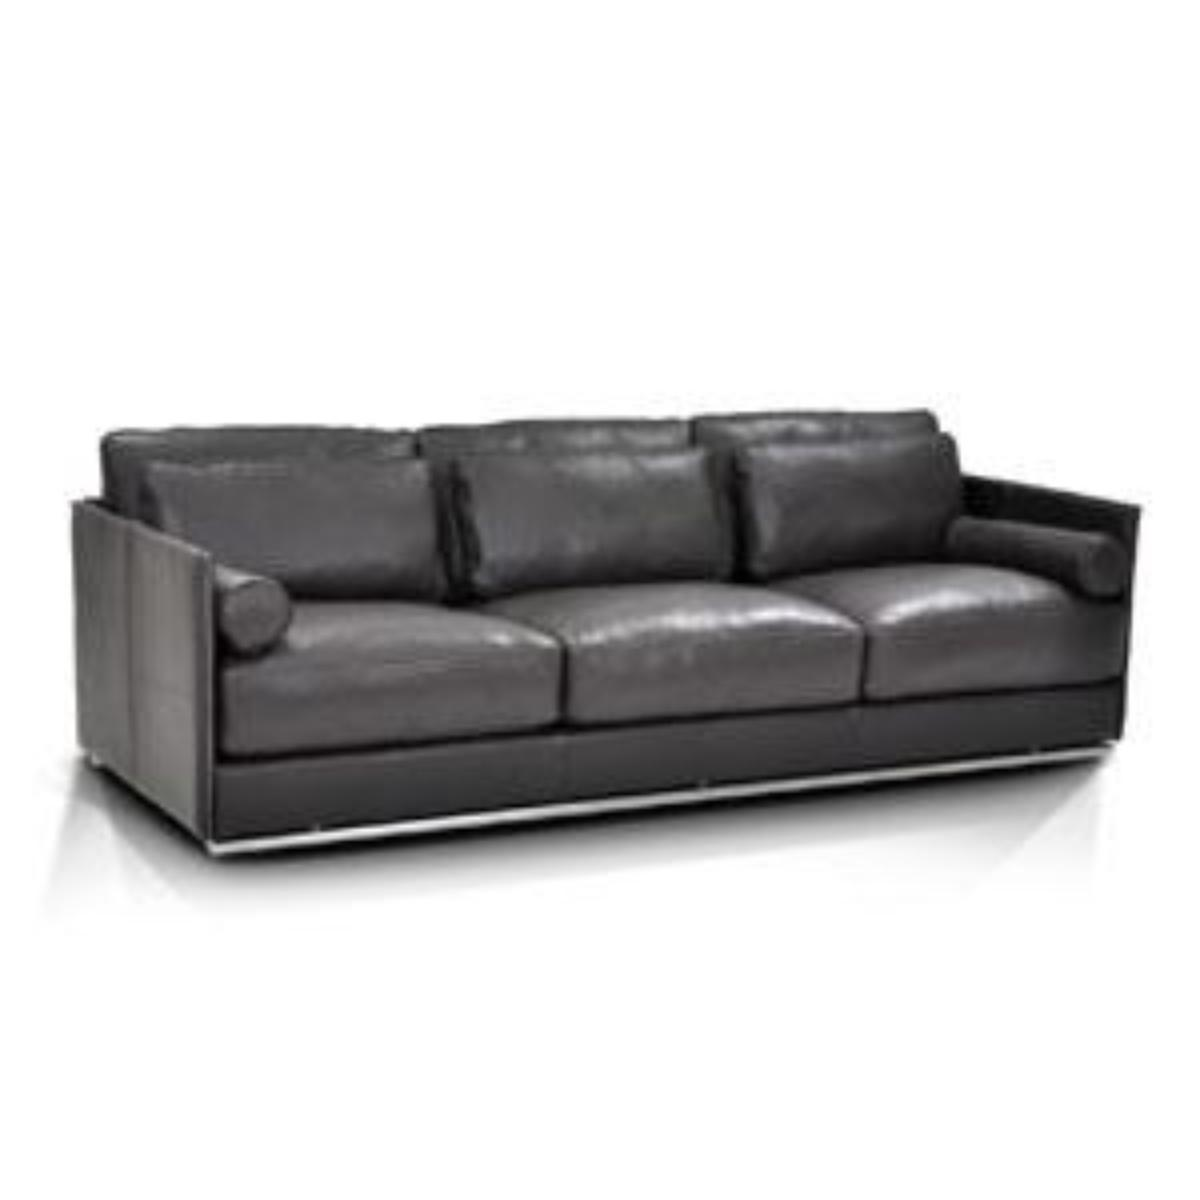Sofa: (69, 406, 1143, 859)
